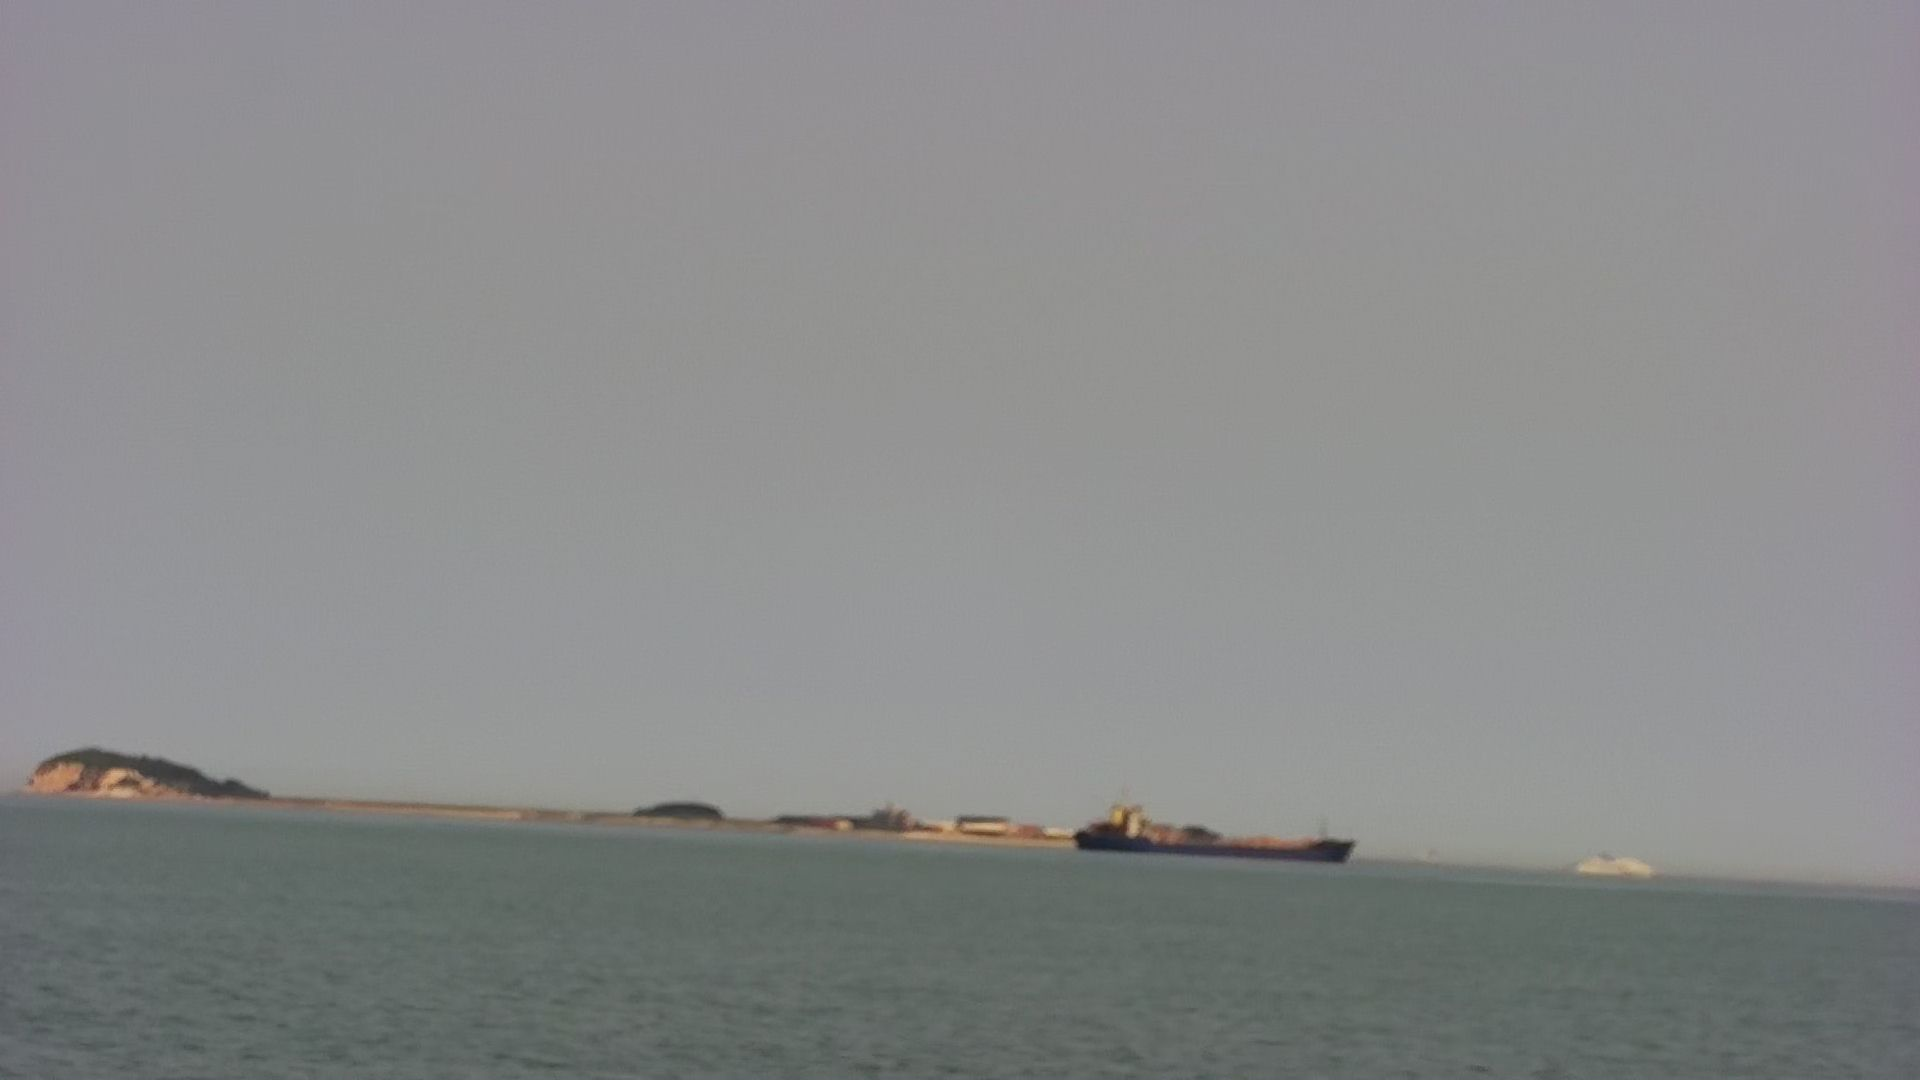rock: (18, 746, 269, 803)
ship: (1063, 794, 1358, 866)
